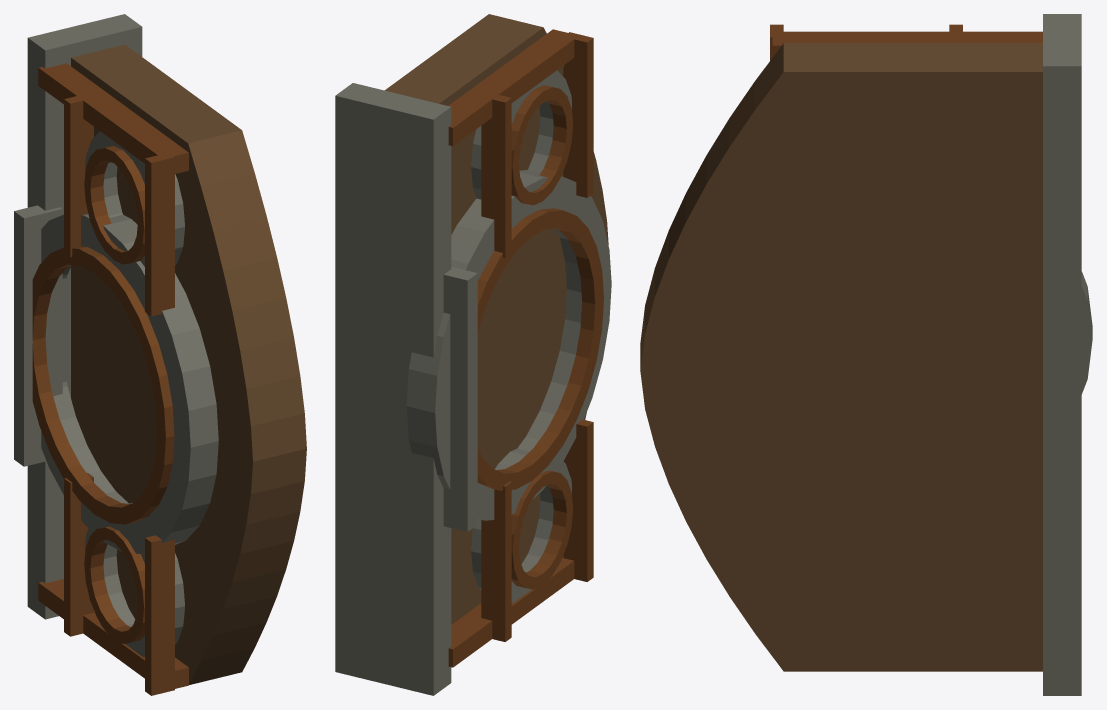
Rendered from SM_ShBagEndHeroFacade.obj.
3 renders of one model, left to right at view 1: azimuth 30°, elevation 25°; view 2: azimuth 150°, elevation 25°; view 3: azimuth 270°, elevation 25°, orthographic. The views are drawn at different scales.
Parts seen in each view (by area): view 1: hero_017_Stone, hero_016_Stone, hero_018_Wood, hero_015_Earth, hero_029_Stone, hero_007_Earth, hero_008_Earth, hero_006_Earth, hero_005_Earth, hero_009_Earth, hero_028_Wood, hero_026_Wood (+18 smaller); view 2: hero_016_Stone, hero_017_Stone, hero_018_Wood, hero_029_Stone, hero_015_Earth, hero_028_Wood, hero_025_Wood, hero_021_Wood, hero_026_Wood, hero_024_Wood, hero_020_Wood, hero_022_Wood (+15 smaller); view 3: hero_016_Stone, hero_015_Earth, hero_008_Earth, hero_009_Earth, hero_007_Earth, hero_006_Earth, hero_010_Earth, hero_005_Earth, hero_011_Earth, hero_004_Earth, hero_012_Earth, hero_003_Earth (+7 smaller).
Part boxes in pixels (left/top/right/bottom): hero_017_Stone: left=41, top=214, right=218, bottom=553; hero_016_Stone: left=27, top=14, right=142, bottom=619; hero_018_Wood: left=32, top=246, right=174, bottom=524; hero_015_Earth: left=71, top=44, right=254, bottom=186; hero_029_Stone: left=14, top=205, right=62, bottom=466; hero_007_Earth: left=71, top=329, right=306, bottom=493; hero_008_Earth: left=71, top=295, right=306, bottom=461; hero_006_Earth: left=71, top=363, right=304, bottom=524; hero_005_Earth: left=71, top=396, right=300, bottom=553; hero_009_Earth: left=71, top=265, right=304, bottom=426; hero_028_Wood: left=38, top=63, right=188, bottom=173; hero_026_Wood: left=145, top=152, right=174, bottom=316; hero_016_Stone: left=335, top=83, right=451, bottom=695; hero_017_Stone: left=406, top=170, right=611, bottom=520; hero_018_Wood: left=477, top=208, right=603, bottom=490; hero_029_Stone: left=443, top=267, right=477, bottom=531; hero_015_Earth: left=384, top=14, right=546, bottom=105; hero_028_Wood: left=448, top=29, right=576, bottom=145; hero_025_Wood: left=481, top=92, right=511, bottom=257; hero_021_Wood: left=481, top=481, right=511, bottom=641; hero_026_Wood: left=563, top=32, right=593, bottom=197; hero_024_Wood: left=511, top=85, right=573, bottom=205; hero_020_Wood: left=511, top=470, right=573, bottom=589; hero_022_Wood: left=563, top=419, right=593, bottom=581; hero_016_Stone: left=1043, top=14, right=1081, bottom=695; hero_015_Earth: left=755, top=43, right=1042, bottom=109; hero_008_Earth: left=640, top=307, right=1042, bottom=371; hero_009_Earth: left=645, top=268, right=1042, bottom=334; hero_007_Earth: left=640, top=372, right=1042, bottom=409; hero_006_Earth: left=645, top=409, right=1042, bottom=446; hero_010_Earth: left=655, top=230, right=1042, bottom=296; hero_005_Earth: left=655, top=447, right=1042, bottom=484; hero_011_Earth: left=669, top=194, right=1042, bottom=259; hero_004_Earth: left=669, top=484, right=1042, bottom=521; hero_012_Earth: left=686, top=156, right=1042, bottom=221; hero_003_Earth: left=686, top=521, right=1042, bottom=559.
Bounding box in the file's own units: 56 × 252 × 164.
